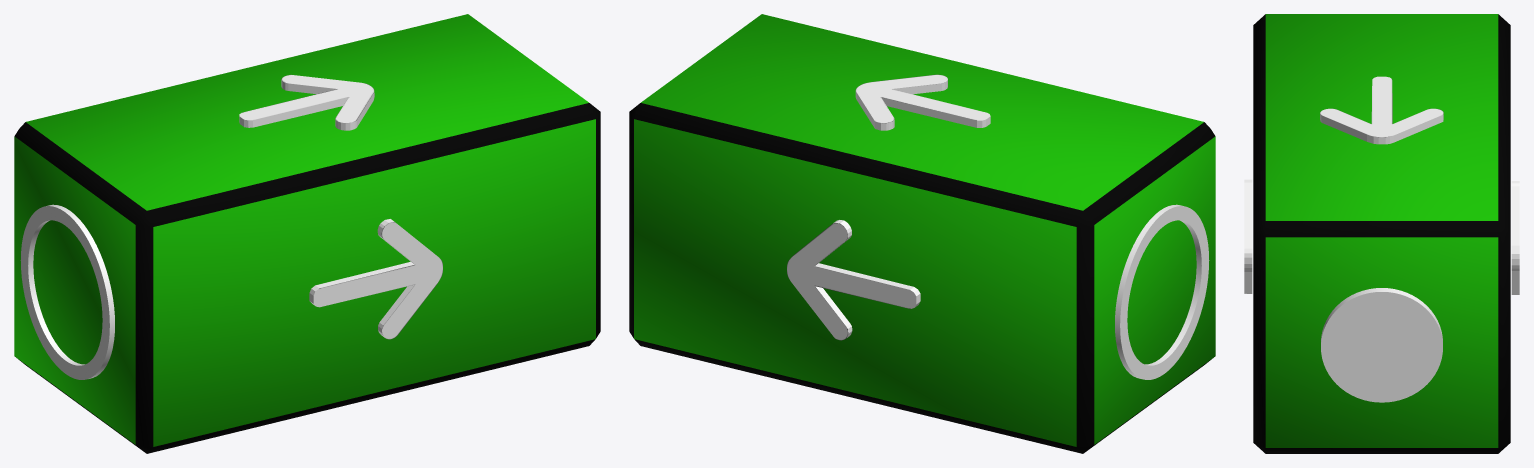
Rendered from BigBoxTapFlowBox_1_1_2_Line_test.fbx.
The picture shows the model from 3 angles, left to right: view 1: azimuth 30°, elevation 25°; view 2: azimuth 150°, elevation 25°; view 3: azimuth 270°, elevation 25°; orthographic projection. The views are drawn at different scales.
Visible parts, largest first — view 1: BigBoxTapFlowBox_1_1_2_Line_test; view 2: BigBoxTapFlowBox_1_1_2_Line_test; view 3: BigBoxTapFlowBox_1_1_2_Line_test.
Part boxes in pixels (bbox=[...]): BigBoxTapFlowBox_1_1_2_Line_test: bbox=[14, 14, 600, 453]; BigBoxTapFlowBox_1_1_2_Line_test: bbox=[629, 14, 1215, 453]; BigBoxTapFlowBox_1_1_2_Line_test: bbox=[1244, 14, 1519, 453].
Bounding box in the file's own units: 2.18 × 1.14 × 1.12.
Materials: 1 (1 with a texture image).
